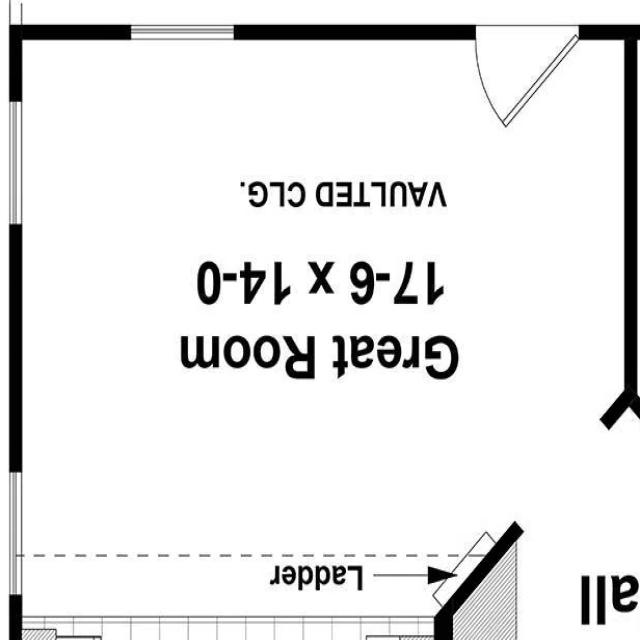Doors: (470, 20, 582, 132)
